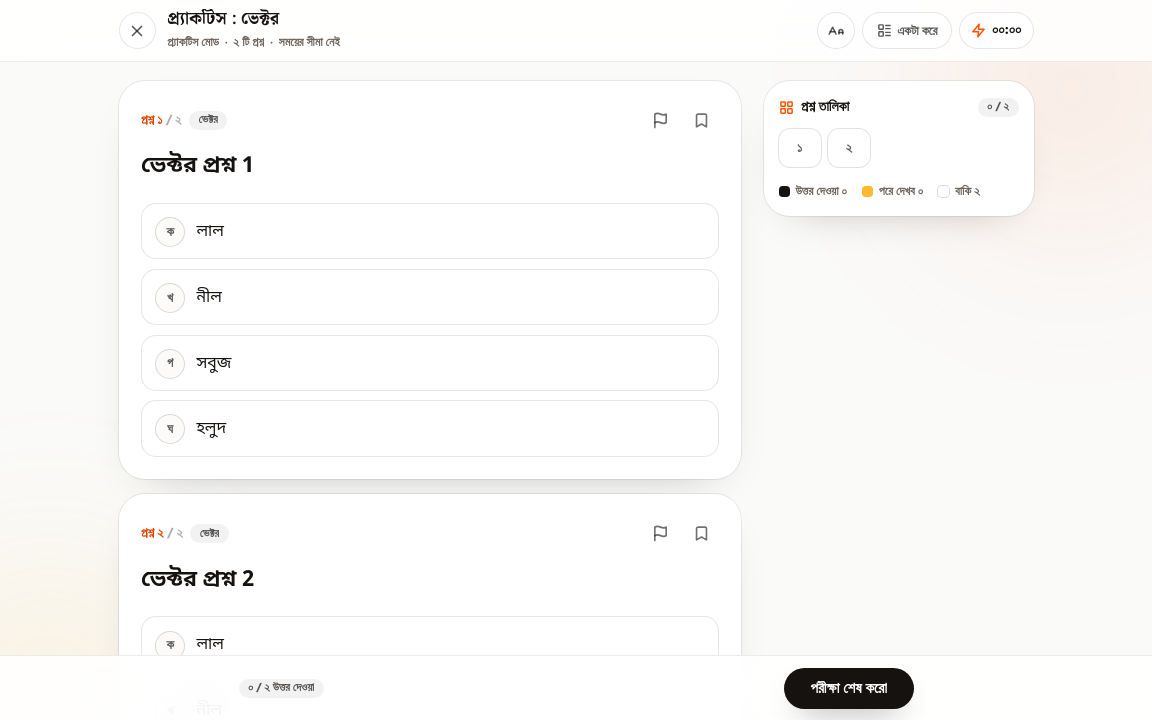
Test: ExamPage › reveals the answer immediately in practice mode and locks the question
The image size is (1152, 720).
Click the button "ঘ হলুদ". click: coordinates (170, 429)
box: [141,400,718,457]
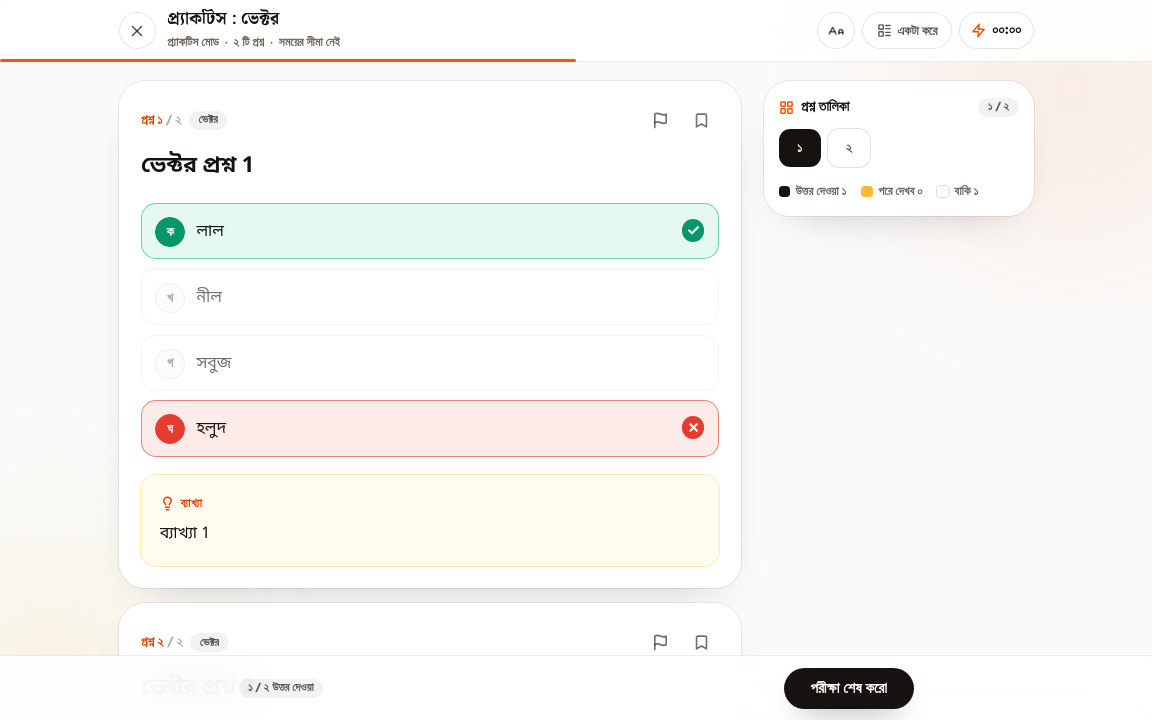
Now the text "ব্যাখ্যা 1" is shown, box [160,523,210,545]
Now the button "ঘ হলুদ" is disabled, box [141,400,718,457]
